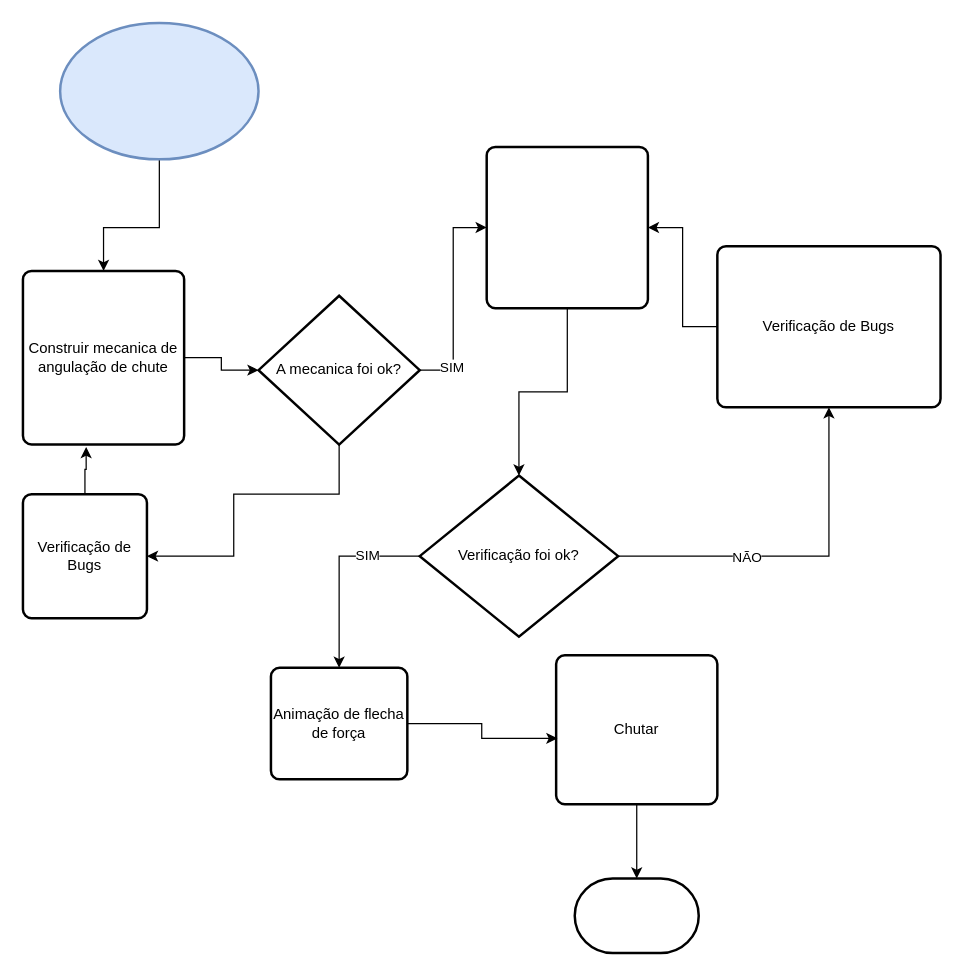
This 962x975 diagram has some shape labels left out. Here are the shapes that lost their labels. From the top down, the centre of each, then its label:
At [158,90]: "Start".
At [567,227]: "Mecanica de verificação de força".
At [636,915]: "End".
